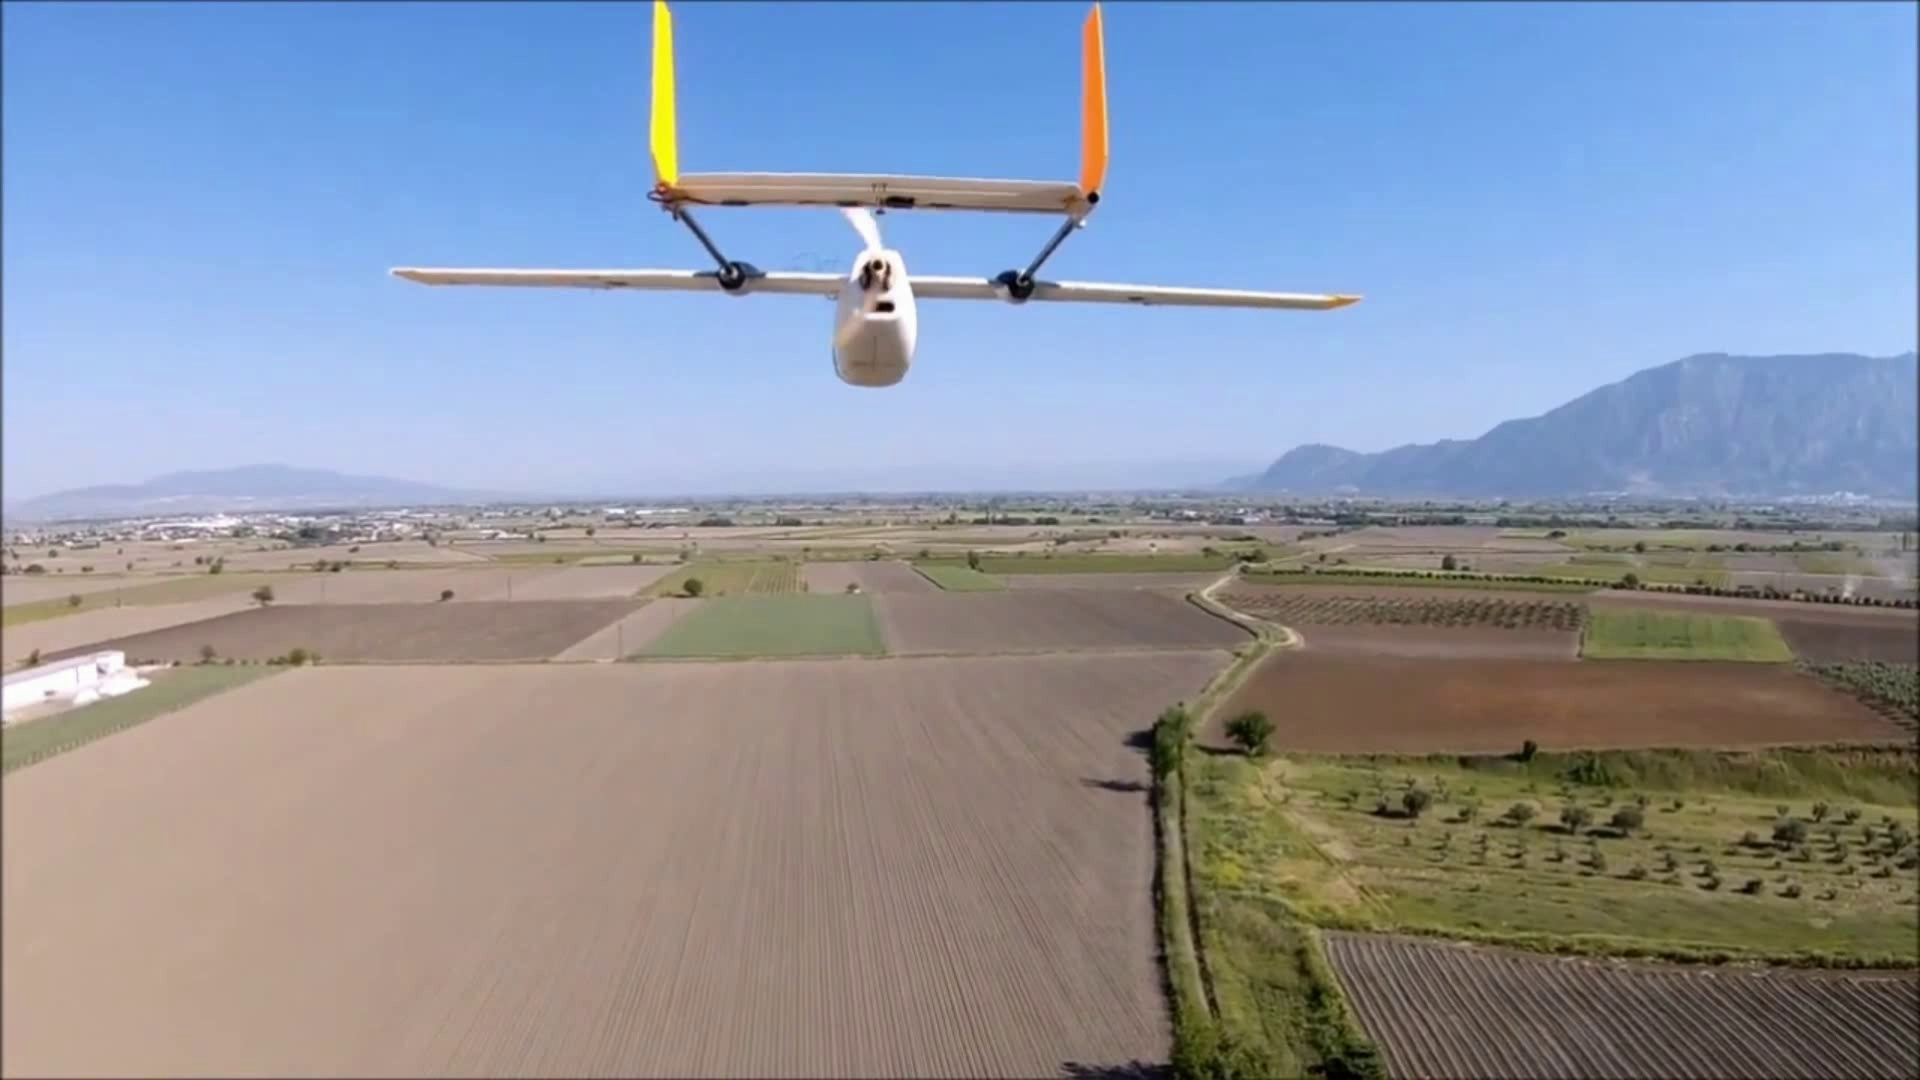airplane: (393, 4, 1358, 379)
